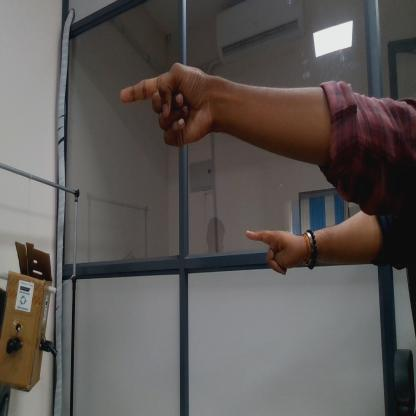Right: (112, 54, 224, 149), (242, 215, 308, 281)
